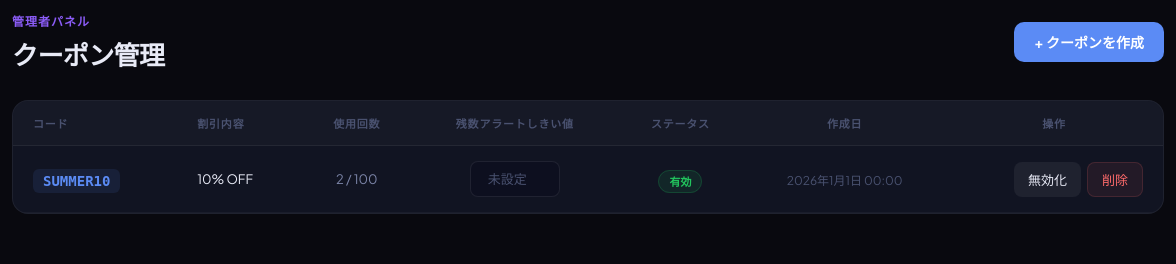
Test: AdminCouponsView › deletes a coupon via deleteAdminCoupon
Expected: the text "SUMMER10" is shown, [33,168,120,192]
What coordinates should you click on to do the following:
click the button "削除"
I would click on:
 (1115, 179)
Its box is [1087,162,1143,196].
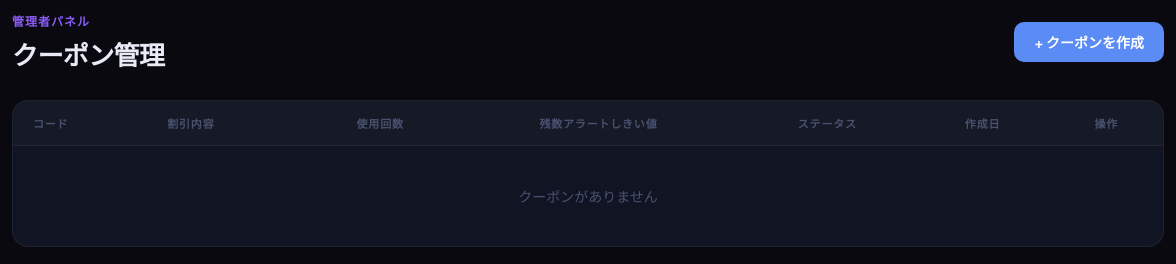
Result: the text "SUMMER10" is gone
